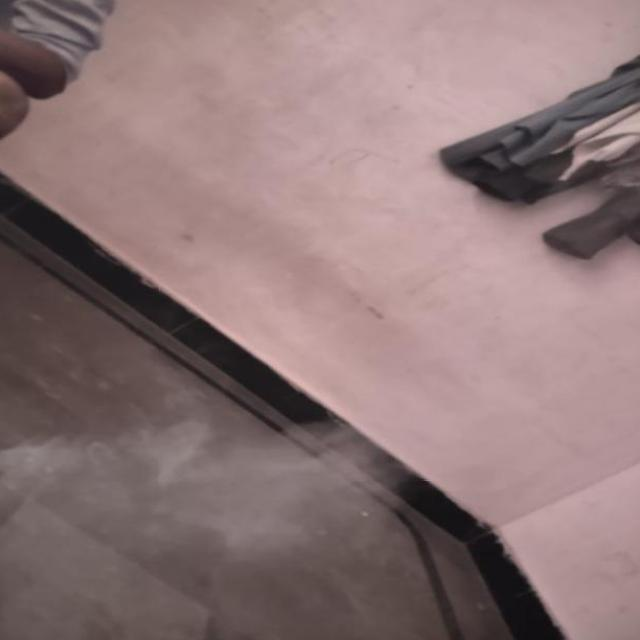fire: (0, 381, 467, 577)
